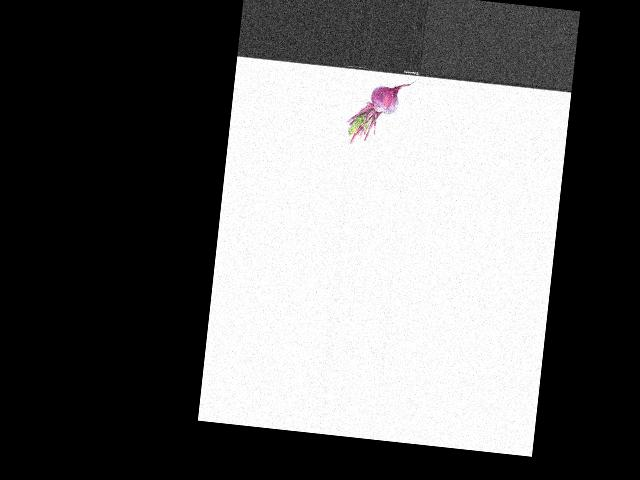beet: (344, 72, 416, 150)
